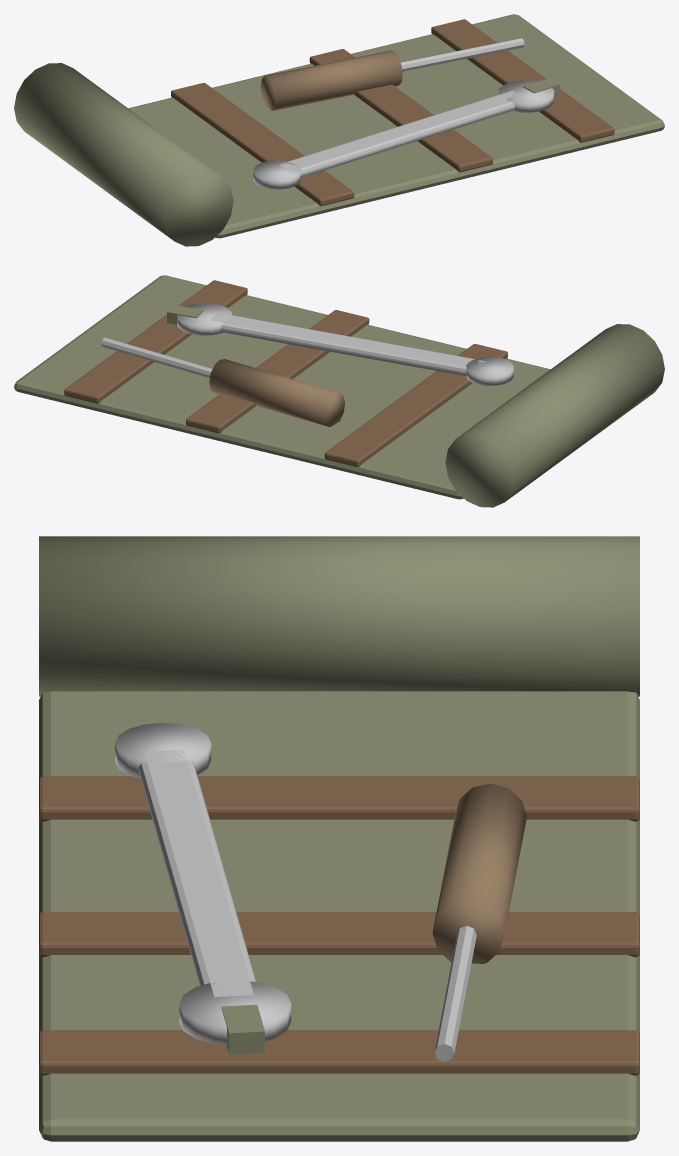
Rendered from Item_repair_kit.fbx.
The picture shows the model from 3 angles, top to bottom: view 1: azimuth 30°, elevation 25°; view 2: azimuth 150°, elevation 25°; view 3: azimuth 270°, elevation 25°; orthographic projection. The views are drawn at different scales.
Visible parts, largest first — view 1: model.010; view 2: model.010; view 3: model.010.
Part boxes in pixels (box(x1,y1,x2,y2)): model.010: box(14, 14, 664, 246); model.010: box(14, 275, 664, 507); model.010: box(39, 536, 639, 1141).
Size of the model in its own units: 0.29 by 0.04 by 0.15.
